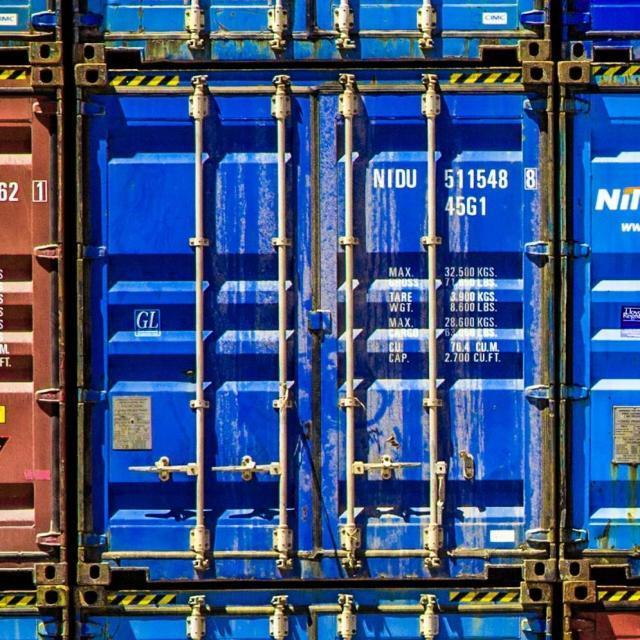ISO: (443, 193, 491, 215)
container_number: (366, 164, 537, 192)
